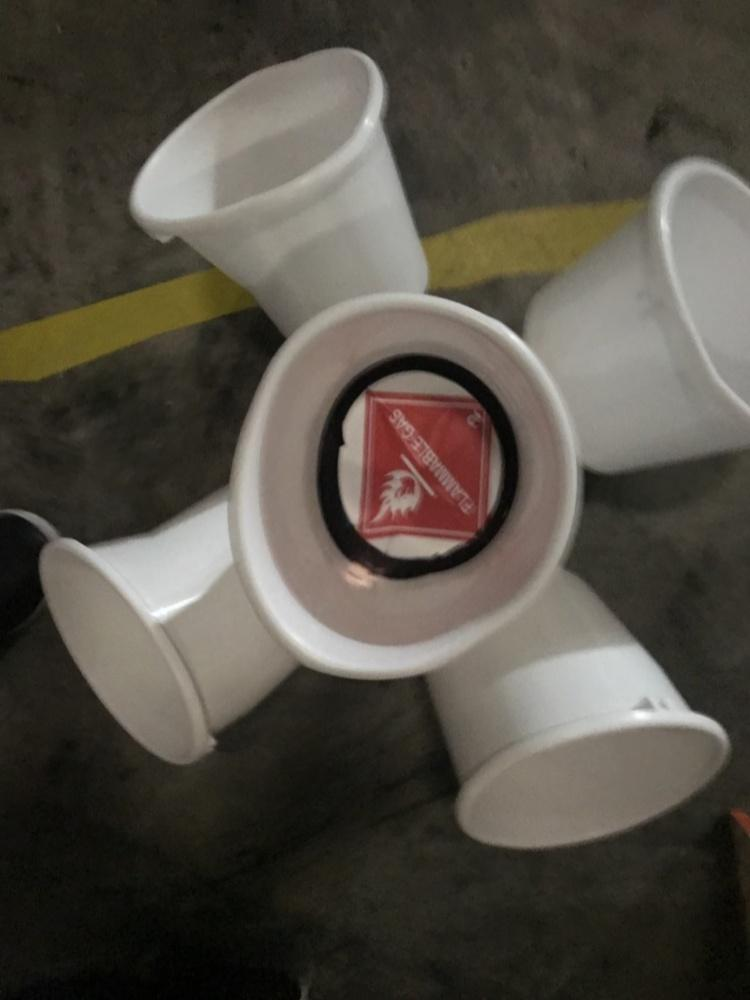flammable: (350, 380, 503, 541)
